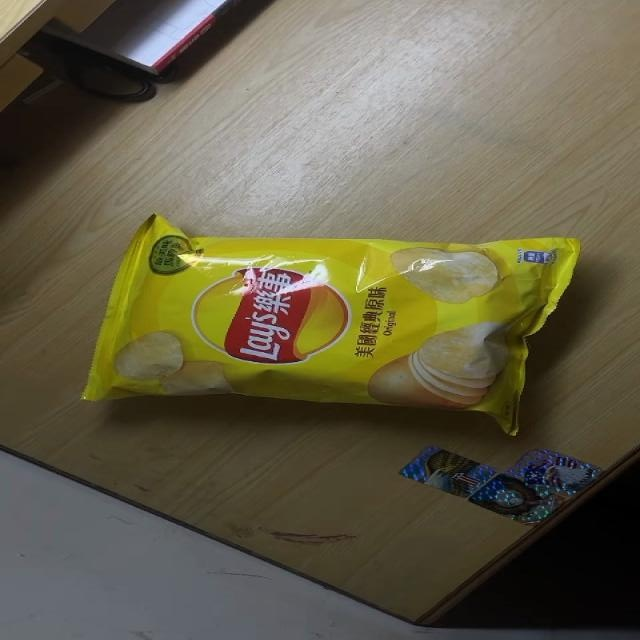Lay-s-original: (80, 213, 582, 439)
